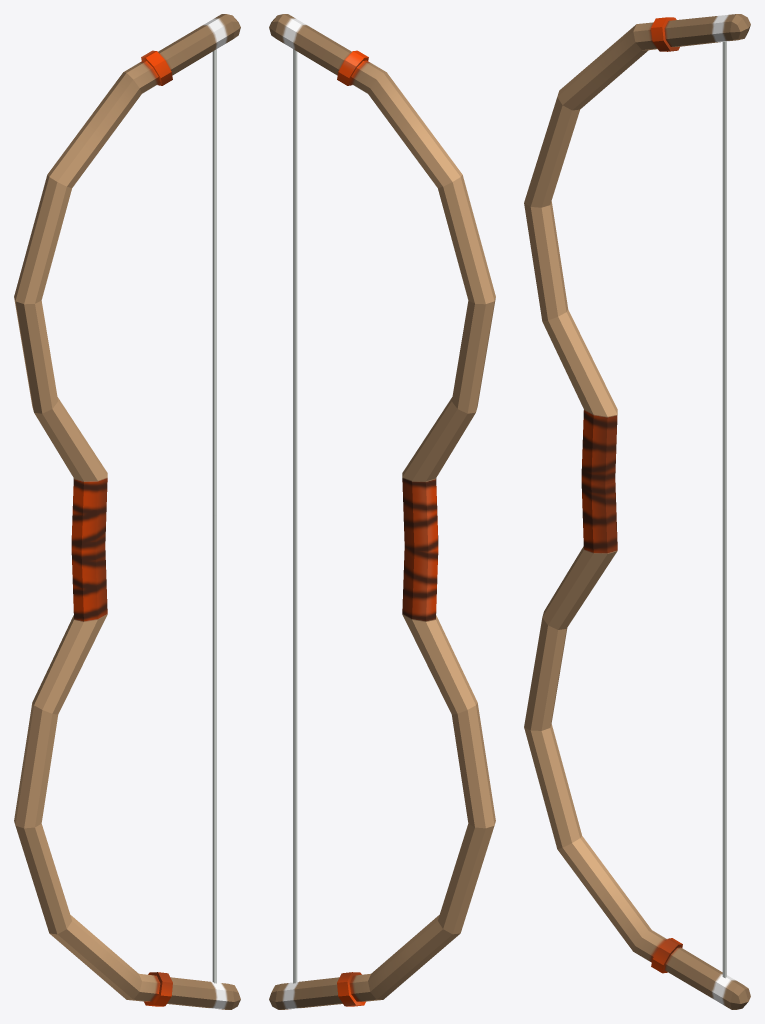
File: Bow_Am_14.53.FBX
3 views of the same model, side by side, from view 1: azimuth 30°, elevation 25°; view 2: azimuth 150°, elevation 25°; view 3: azimuth 330°, elevation 25° (orthographic).
Visible parts, largest first — view 1: Cylinder001; view 2: Cylinder001; view 3: Cylinder001.
Part boxes in pixels (bbox=[...]): Cylinder001: bbox=[14, 14, 240, 1009]; Cylinder001: bbox=[269, 14, 495, 1009]; Cylinder001: bbox=[524, 14, 750, 1009].
Bounding box in the file's own units: 118 × 16.57 × 501.
